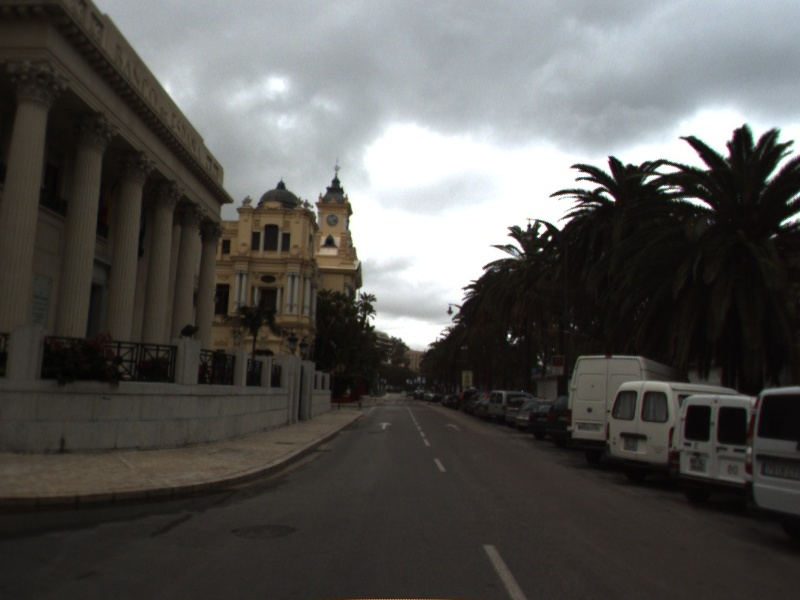STRAIGHT: (445, 421, 463, 433), (376, 420, 394, 431)
